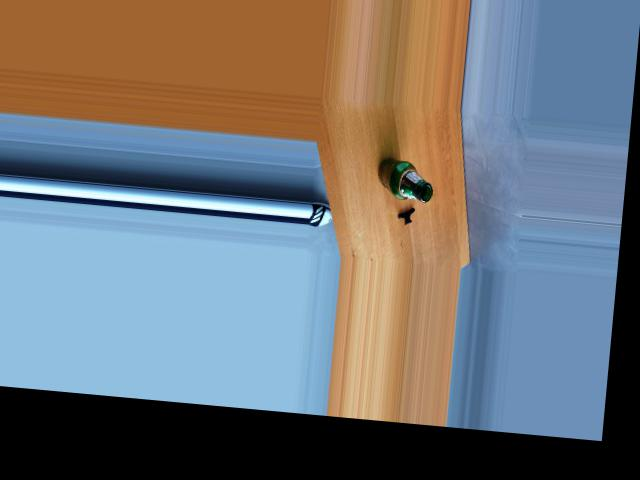beer: (375, 156, 434, 203)
